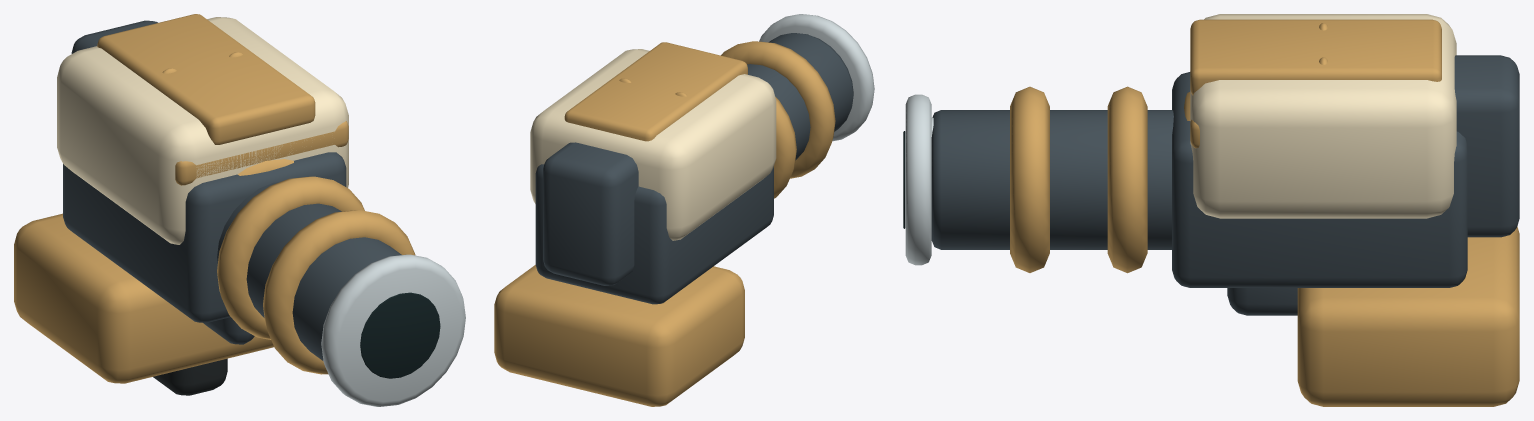
Rendered from shoulder_cannon.t3.glb.
3 renders of one model, left to right at view 1: azimuth 30°, elevation 25°; view 2: azimuth 150°, elevation 25°; view 3: azimuth 270°, elevation 25°, orthographic. The views are drawn at different scales.
Visible parts, largest first — view 1: weapon_shoulder__worn_warm_brass__protected, weapon_shoulder__clay_warm_ivory__protected, weapon_shoulder__forged_bluelead_steel__protected, weapon_right__worn_warm_brass__protected, weapon_shoulder__honed_steel_edge__protected, weapon_shoulder__eye_socket__protected, weapon_right__charcoal_rubber__protected, weapon_right__forged_bluelead_steel__protected; view 2: weapon_shoulder__worn_warm_brass__protected, weapon_shoulder__clay_warm_ivory__protected, weapon_shoulder__forged_bluelead_steel__protected, weapon_right__forged_bluelead_steel__protected, weapon_right__worn_warm_brass__protected, weapon_shoulder__honed_steel_edge__protected; view 3: weapon_shoulder__forged_bluelead_steel__protected, weapon_shoulder__worn_warm_brass__protected, weapon_shoulder__clay_warm_ivory__protected, weapon_right__worn_warm_brass__protected, weapon_right__forged_bluelead_steel__protected, weapon_shoulder__honed_steel_edge__protected.
Part boxes in pixels (left/top/right/bottom): weapon_shoulder__worn_warm_brass__protected: left=14, top=121, right=415, bottom=383; weapon_shoulder__clay_warm_ivory__protected: left=57, top=17, right=348, bottom=244; weapon_shoulder__forged_bluelead_steel__protected: left=63, top=152, right=401, bottom=360; weapon_right__worn_warm_brass__protected: left=97, top=14, right=315, bottom=144; weapon_shoulder__honed_steel_edge__protected: left=321, top=254, right=465, bottom=406; weapon_shoulder__eye_socket__protected: left=360, top=292, right=440, bottom=378; weapon_right__charcoal_rubber__protected: left=153, top=358, right=227, bottom=395; weapon_right__forged_bluelead_steel__protected: left=71, top=20, right=254, bottom=344; weapon_shoulder__worn_warm_brass__protected: left=494, top=41, right=835, bottom=406; weapon_shoulder__clay_warm_ivory__protected: left=530, top=49, right=776, bottom=240; weapon_shoulder__forged_bluelead_steel__protected: left=535, top=33, right=853, bottom=304; weapon_right__forged_bluelead_steel__protected: left=543, top=142, right=638, bottom=285; weapon_right__worn_warm_brass__protected: left=564, top=42, right=747, bottom=141; weapon_shoulder__honed_steel_edge__protected: left=759, top=14, right=874, bottom=141; weapon_shoulder__forged_bluelead_steel__protected: left=931, top=72, right=1467, bottom=312; weapon_shoulder__worn_warm_brass__protected: left=1010, top=86, right=1519, bottom=406; weapon_shoulder__clay_warm_ivory__protected: left=1190, top=14, right=1456, bottom=218; weapon_right__worn_warm_brass__protected: left=1190, top=19, right=1441, bottom=95; weapon_right__forged_bluelead_steel__protected: left=1227, top=55, right=1519, bottom=315; weapon_shoulder__honed_steel_edge__protected: left=905, top=94, right=931, bottom=265.
Bounding box in the file's own units: 0.35 × 0.532 × 0.833.
